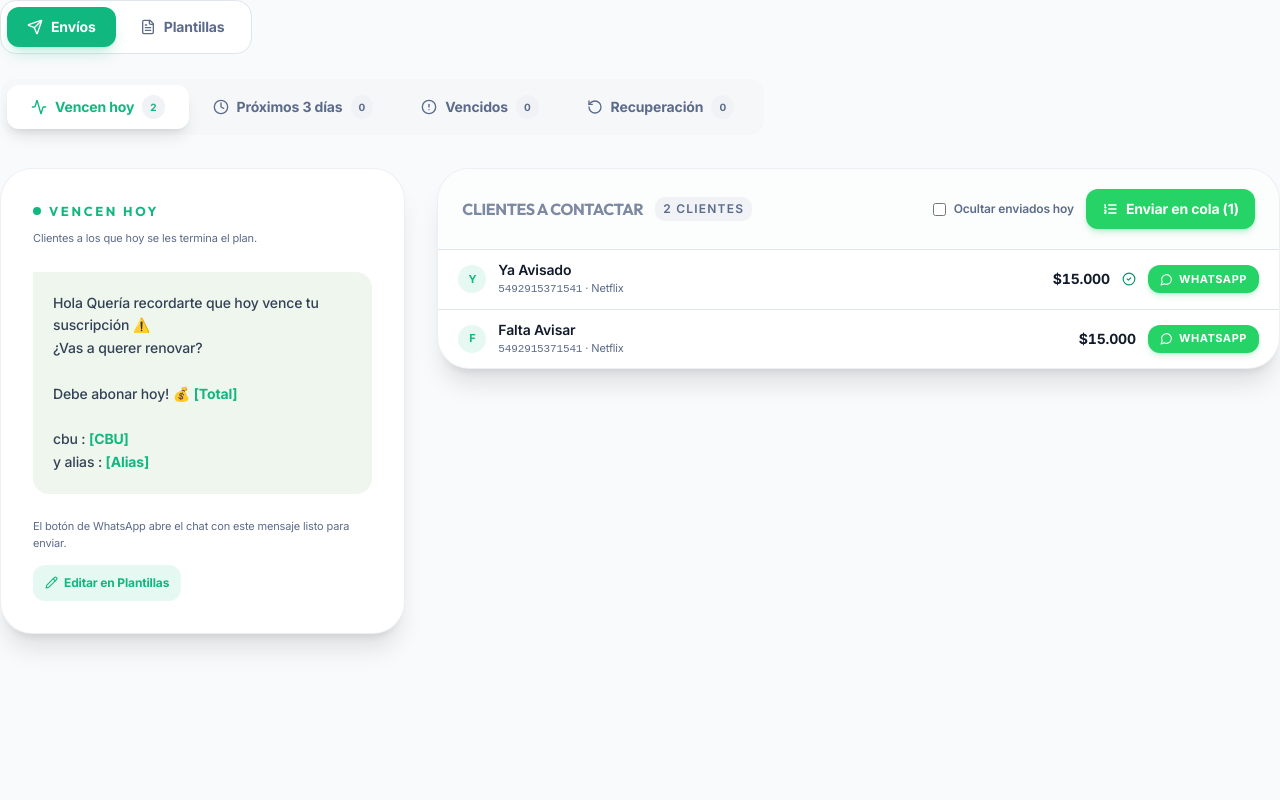
it: MessagesView › puede ocultar a los que ya se les escribió hoy
Click the checkbox labelled "Ocultar enviados hoy".
click(939, 209)  # box [933,202,946,216]
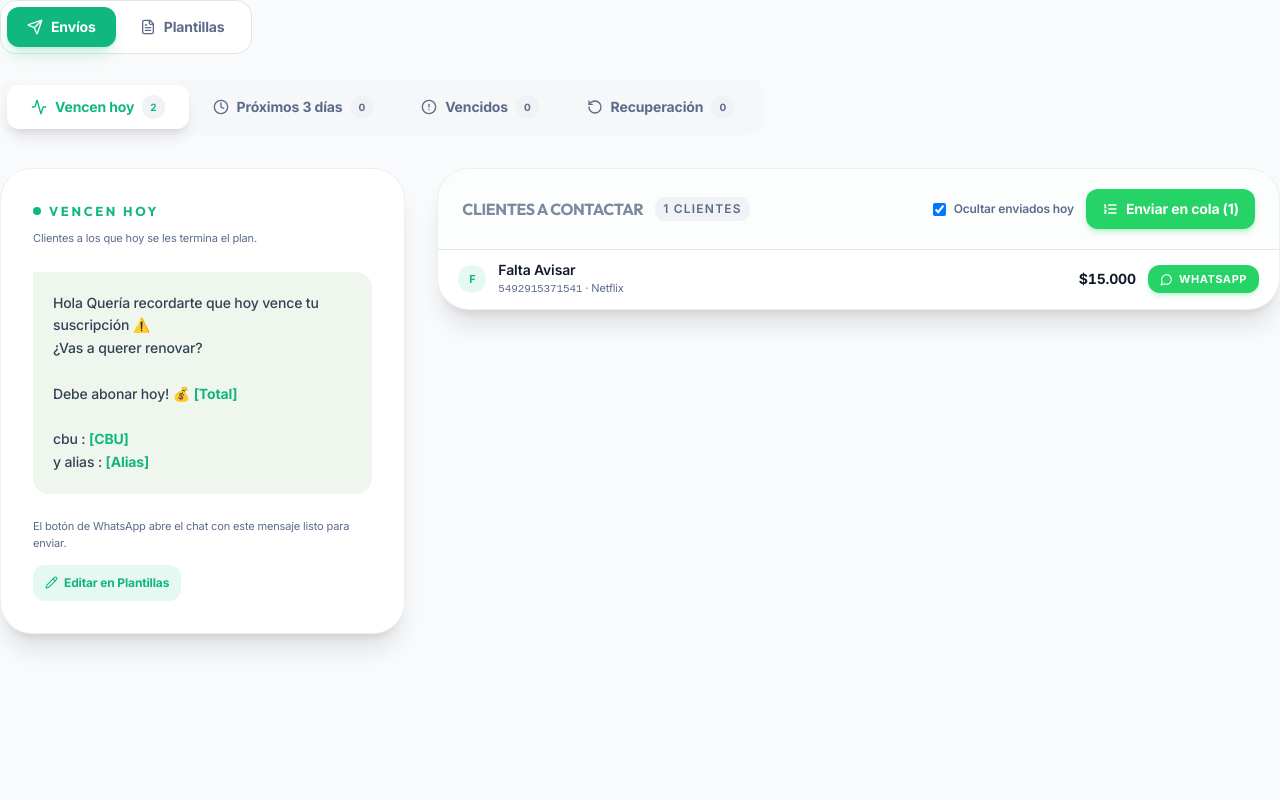
expect the text "Falta Avisar" is shown: met, box [498,261,576,278]
expect the text "Ya Avisado" is gone: met
